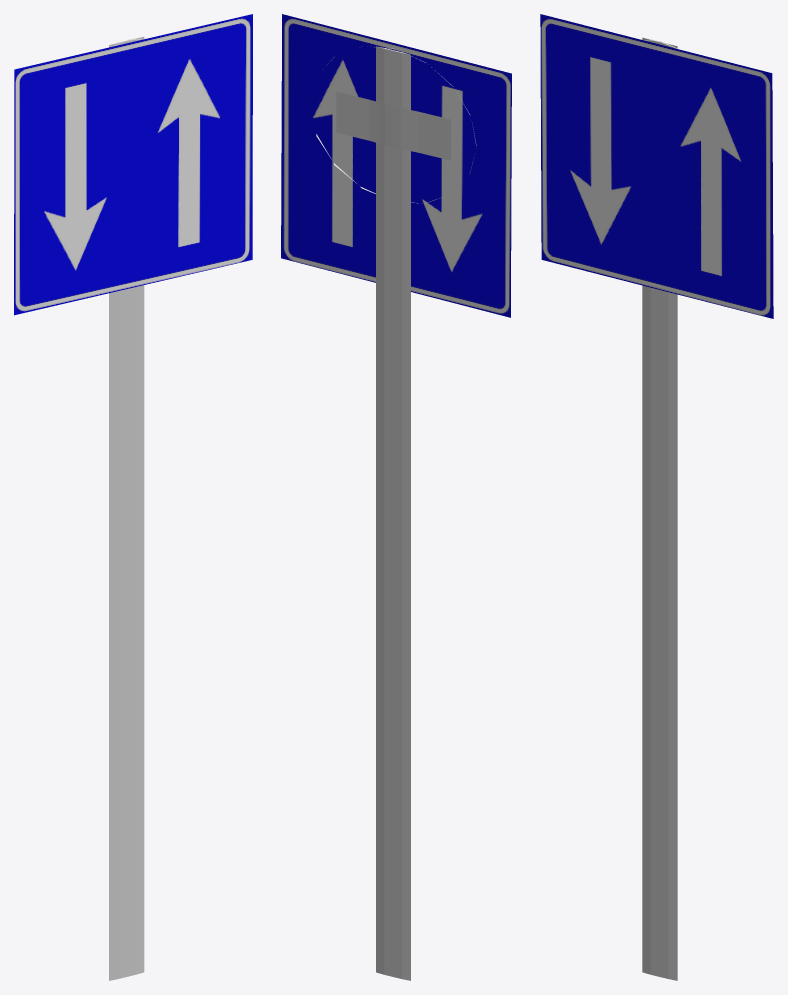
File: ikiyon.dae
The picture shows the model from 3 angles, left to right: view 1: azimuth 30°, elevation 25°; view 2: azimuth 150°, elevation 25°; view 3: azimuth 330°, elevation 25°; orthographic projection.
Visible parts, largest first — view 1: Plane, Sign_Circle.005; view 2: Plane, Sign_Circle.005; view 3: Plane, Sign_Circle.005.
Part boxes in pixels (box(x1,y1,x2,y2)): Plane: box(14, 14, 252, 315); Sign_Circle.005: box(109, 36, 145, 980); Plane: box(281, 14, 511, 317); Sign_Circle.005: box(316, 46, 476, 980); Plane: box(540, 14, 773, 318); Sign_Circle.005: box(642, 37, 678, 980).
Bounding box in the file's own units: 0.5948 × 0.032 × 2.26.
Materials: 3 (1 with a texture image).
